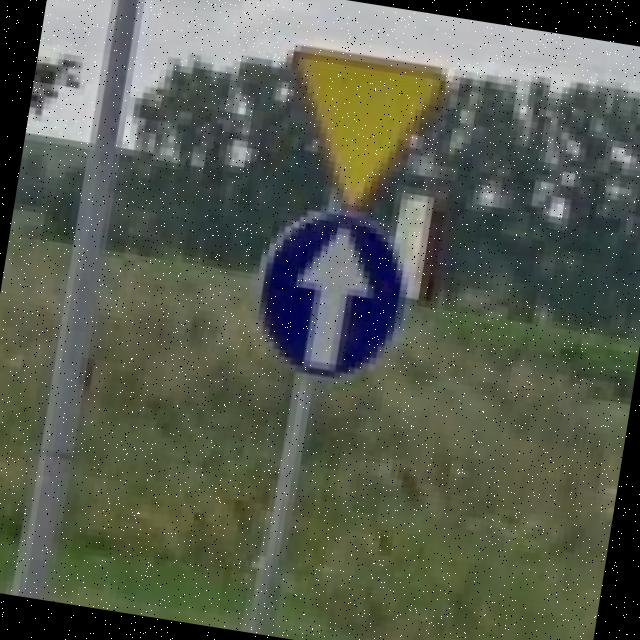Ustap pierwszenstwa: (264, 40, 448, 225)
